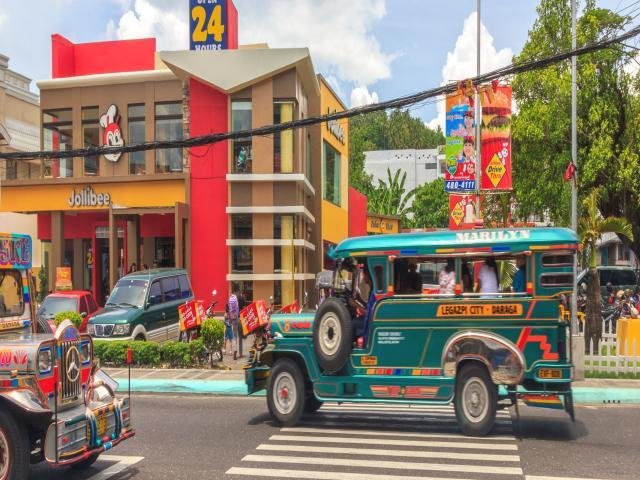jeepney: (241, 227, 582, 439), (2, 220, 137, 480)
